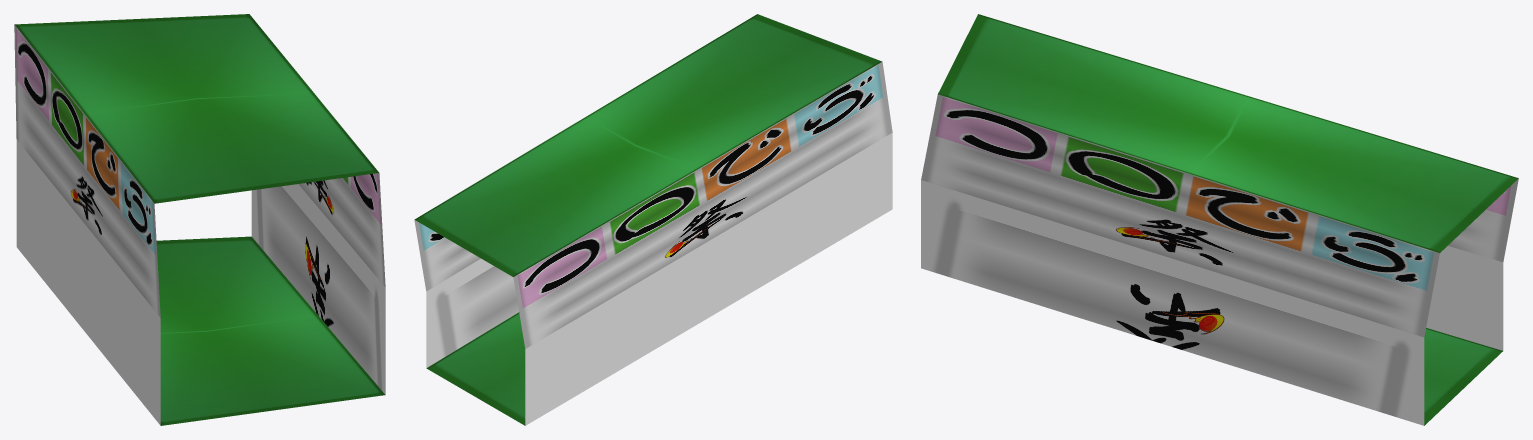
Rendered from CourseSummer_Concave_1_2.fbx.
3 views of the same model, side by side, from view 1: azimuth 30°, elevation 25°; view 2: azimuth 150°, elevation 25°; view 3: azimuth 270°, elevation 25° (orthographic). The views are drawn at different scales.
Visible parts, largest first — view 1: polySurface132; view 2: polySurface132; view 3: polySurface132.
Boxes of the visible parts, box(x1,y1,x2,y2) form: polySurface132: box(14, 14, 385, 425); polySurface132: box(414, 14, 892, 425); polySurface132: box(921, 14, 1518, 425).
Bounding box in the file's own units: 3.69 × 2.98 × 6.12.
Materials: 1 (1 with a texture image).
